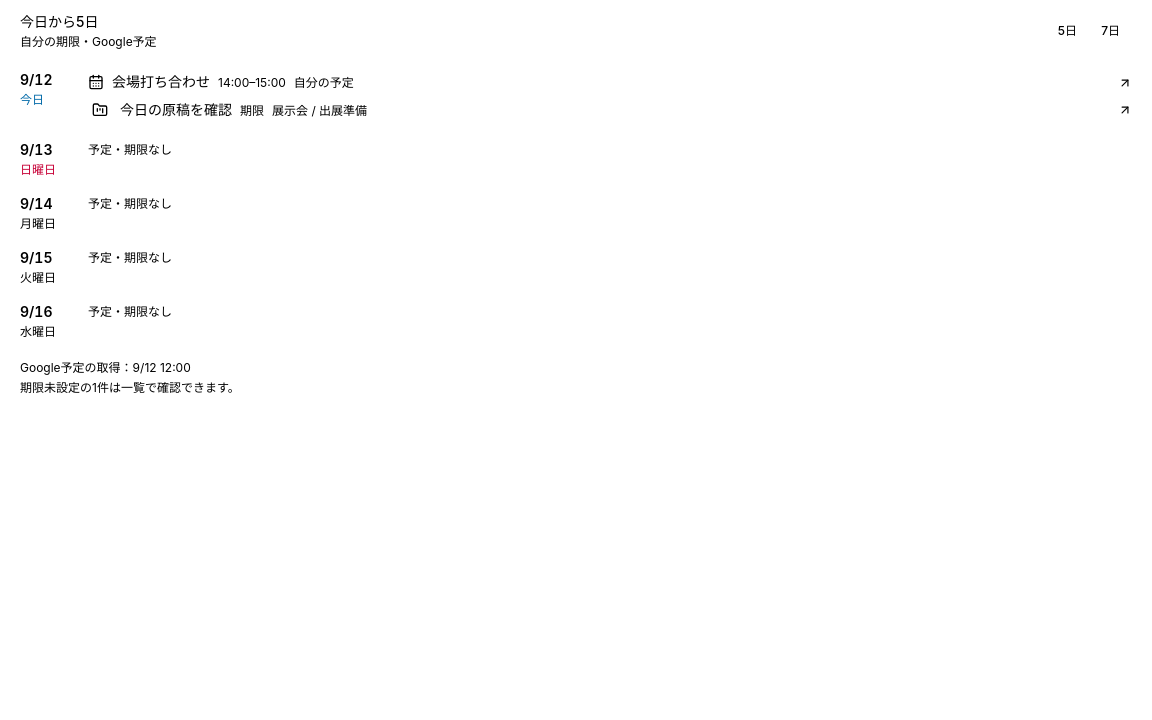
Test case: Neo calendar › shows today’s deadlines and connected appointments, with working source links
This screenshot has width=1152, height=720.
Check: the text "14:00–15:00" is shown, box [218, 75, 286, 91]
Check: the text "自分の予定" is shown, box [294, 75, 354, 90]
Click the button "7日" at (1111, 31), box [1091, 17, 1130, 45]
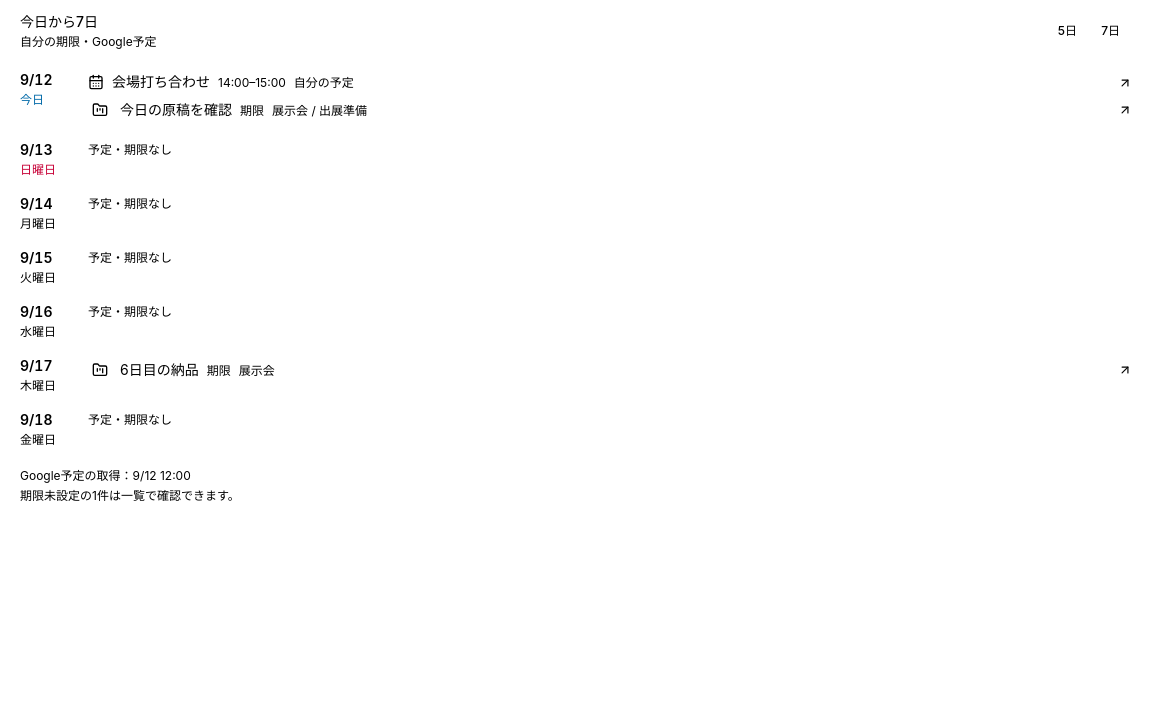
Check: the heading "今日から7日" is shown, box [20, 13, 98, 30]
Check: the link "6日目の納品" is shown, box [88, 356, 1132, 384]
